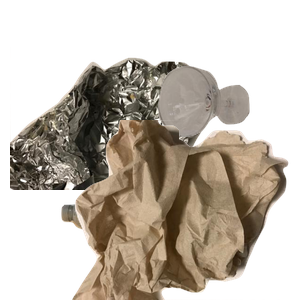glass: (156, 64, 300, 194)
metal: (10, 47, 216, 227)
plastic: (59, 193, 241, 300)
trash: (70, 120, 300, 300)
